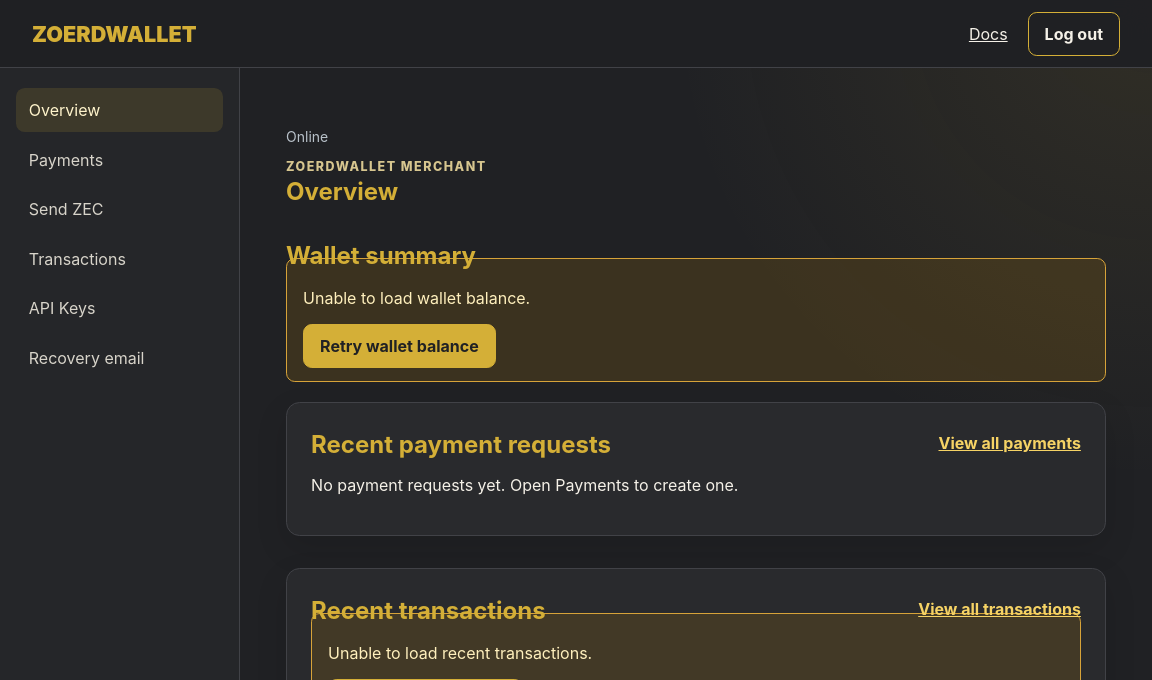
Test: dashboard overview › retries each initially failed dashboard section
The image size is (1152, 680).
Click the button "Retry wallet balance": (399, 346) [303,324,496,368]
(page scrolled)
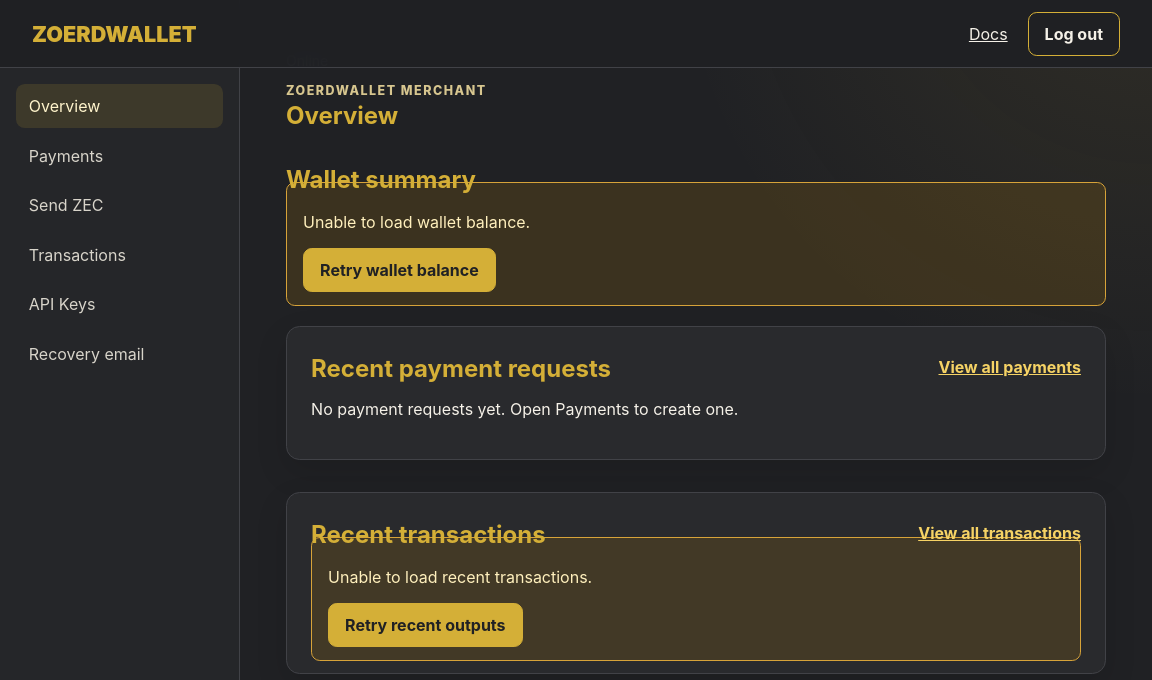
Click the button "Retry recent outputs": (425, 625) [328,603,523,647]
(page scrolled)
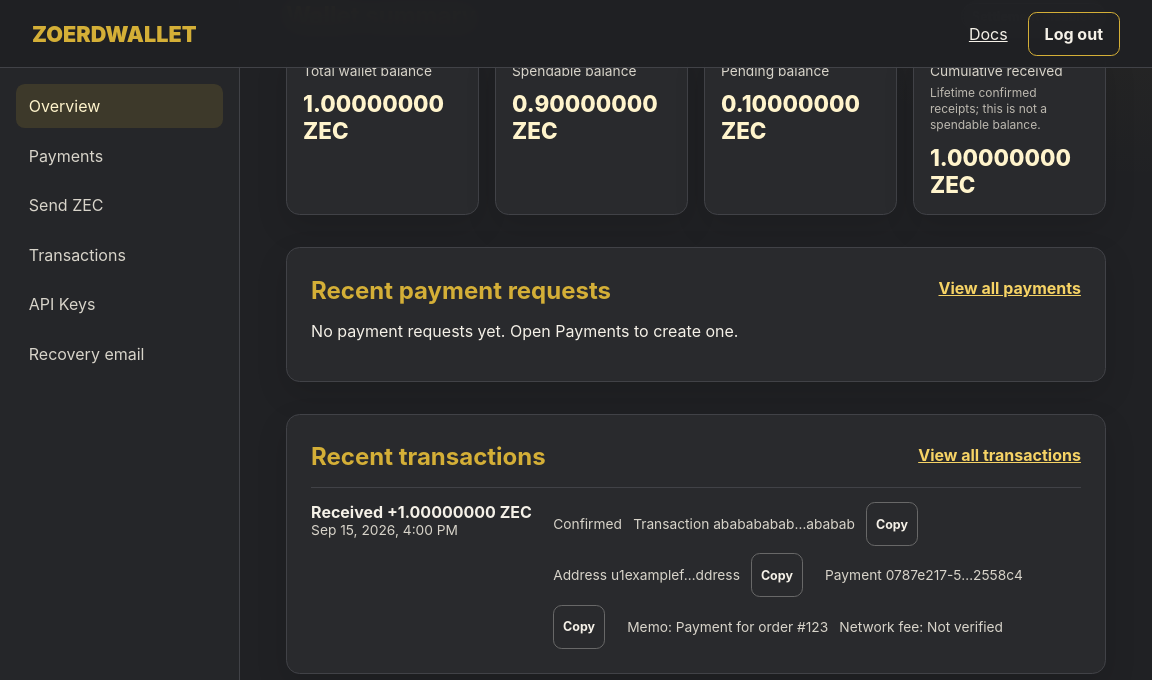
Result: the text "Transaction ababab" is shown at [633,516,855,532]
